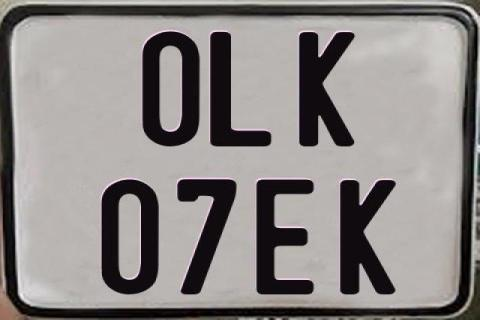0: (175, 179, 240, 297), (101, 180, 160, 300), (142, 31, 203, 146)
E: (255, 179, 319, 295)
K: (339, 179, 398, 299), (298, 31, 357, 149)
L: (207, 31, 273, 145)
